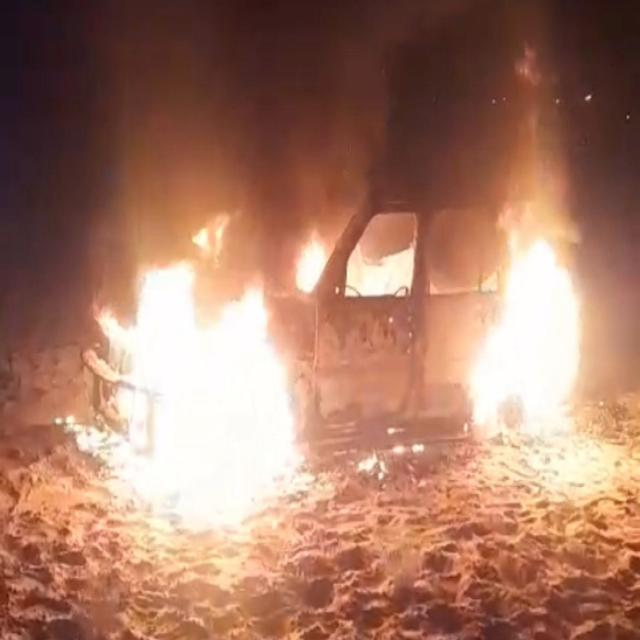fire: (55, 260, 315, 540), (467, 237, 581, 439), (345, 244, 414, 295), (496, 208, 576, 237), (296, 229, 331, 293), (192, 213, 231, 258)
